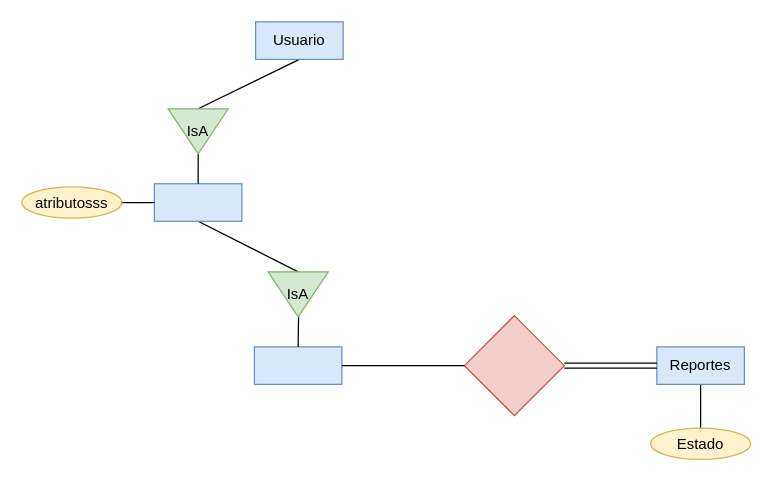
This 773x481 diagram has some shape labels left out. The centre of each missing label's shape, as x and y in pixels:
"Cambiar estado" belongs at [513,365].
"Funcionario" belongs at [297,365].
"Usuario Registrado" belongs at [197,201].
